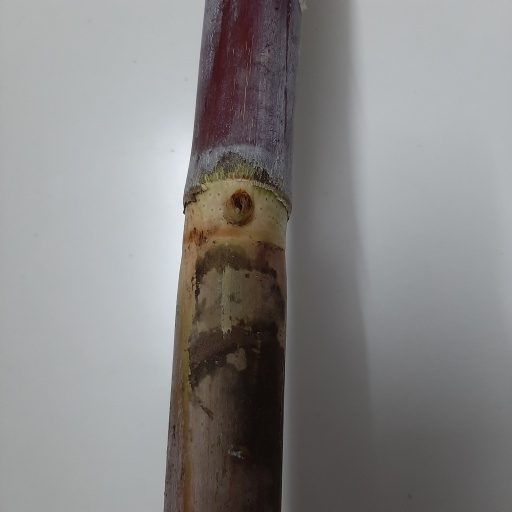Bud: (226, 190, 253, 226)
